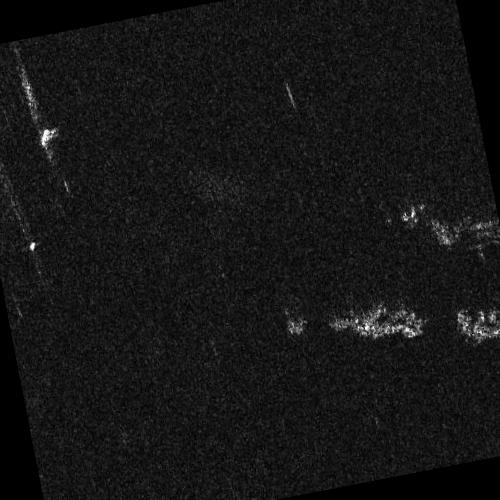ship: (41, 128, 50, 147), (29, 241, 36, 252)
